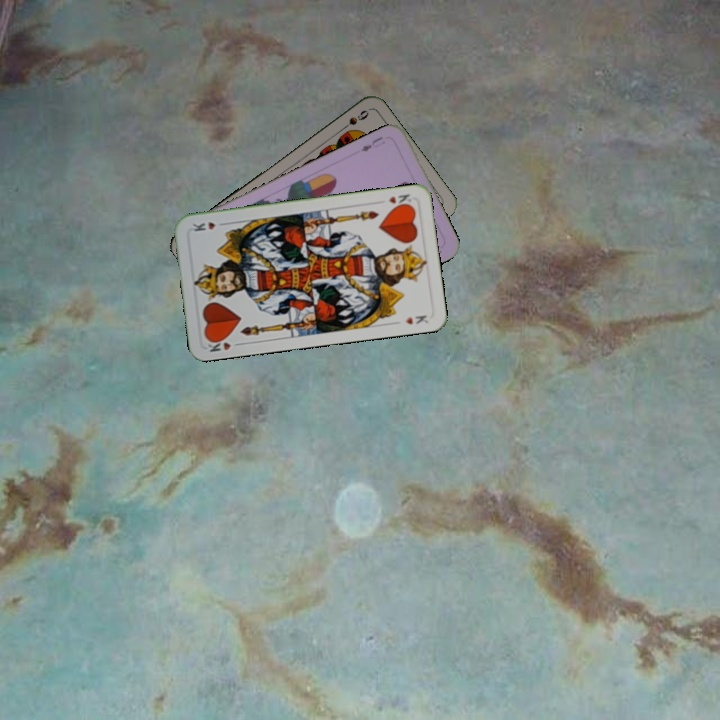EU: (356, 132, 388, 154)
HK: (203, 333, 244, 355), (384, 190, 415, 210)
S9: (336, 106, 371, 134)
